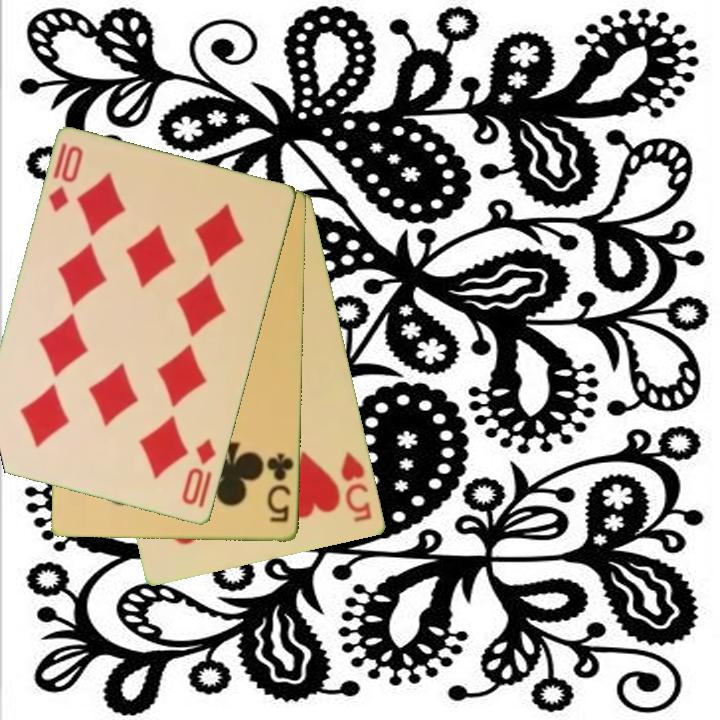10d: (178, 435, 220, 511), (45, 142, 87, 216)
5c: (264, 450, 297, 525)
5h: (338, 448, 375, 526)
